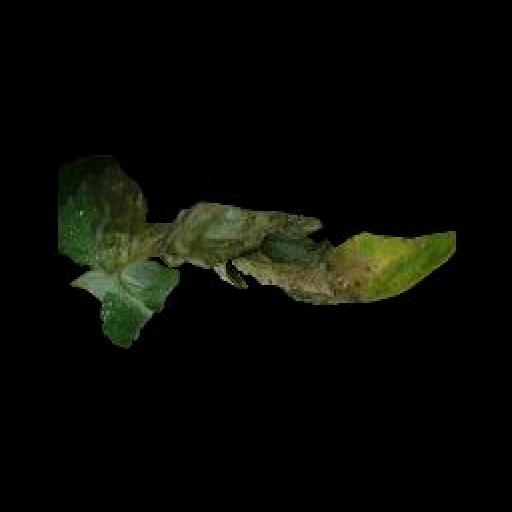disease_tomato: (54, 162, 456, 346)
